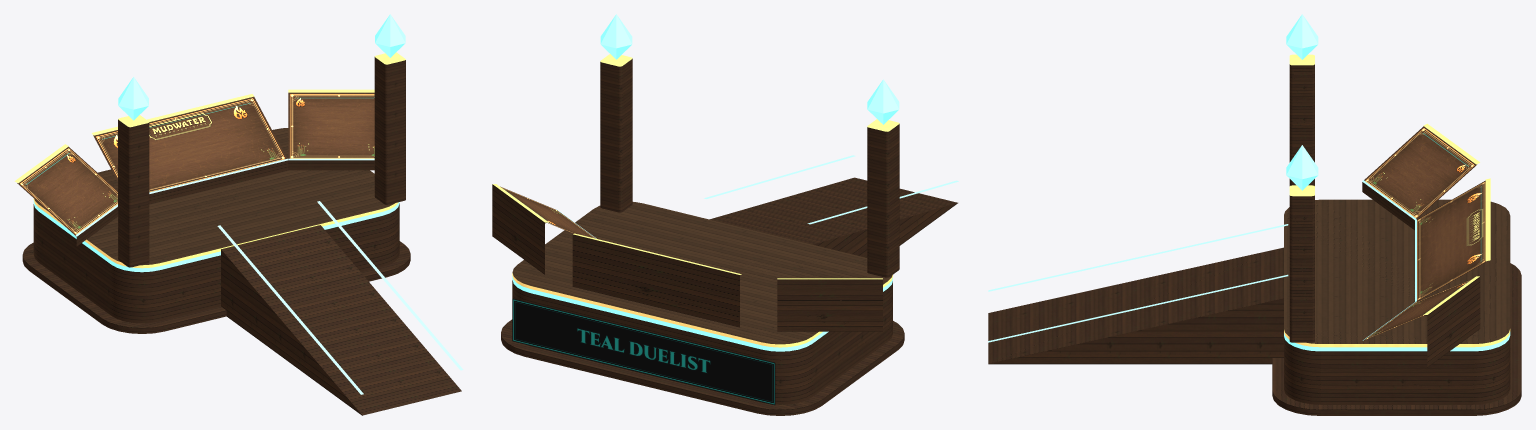
File: mwm_tower_t.glb
The picture shows the model from 3 angles, left to right: view 1: azimuth 30°, elevation 25°; view 2: azimuth 150°, elevation 25°; view 3: azimuth 270°, elevation 25°; orthographic projection. The views are drawn at different scales.
Visible parts, largest first — view 1: mwx_tower_t; view 2: mwx_tower_t; view 3: mwx_tower_t.
Boxes of the visible parts, box(x1,y1,x2,y2) form: mwx_tower_t: box(14, 14, 463, 415); mwx_tower_t: box(492, 14, 958, 415); mwx_tower_t: box(988, 14, 1521, 415).
Bounding box in the file's own units: 19.62 × 12.4 × 23.1.
6 materials, 5 textured.
